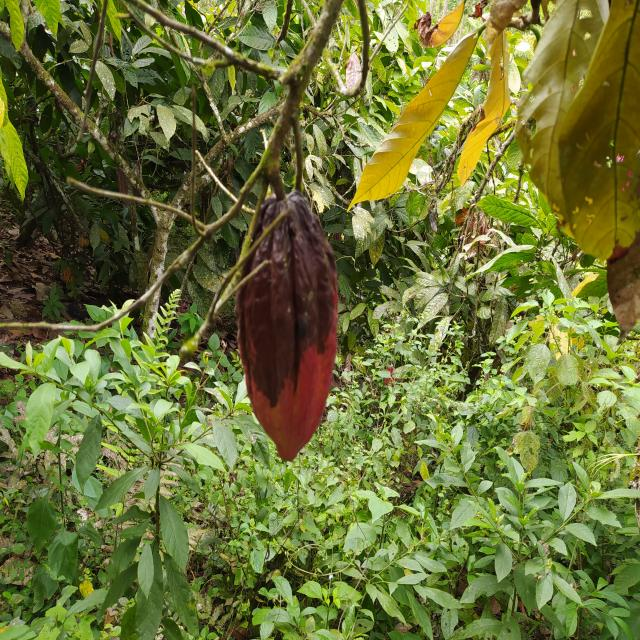Fitoftora: (237, 191, 341, 457)
